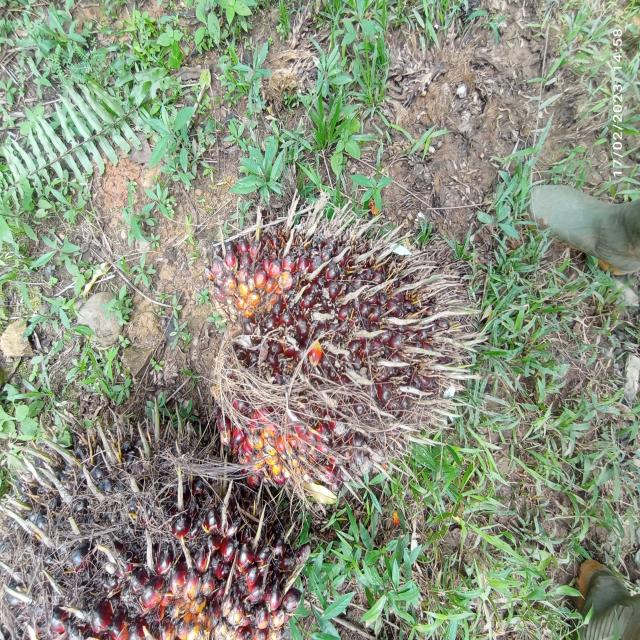fraksi 1: (205, 197, 473, 519)
